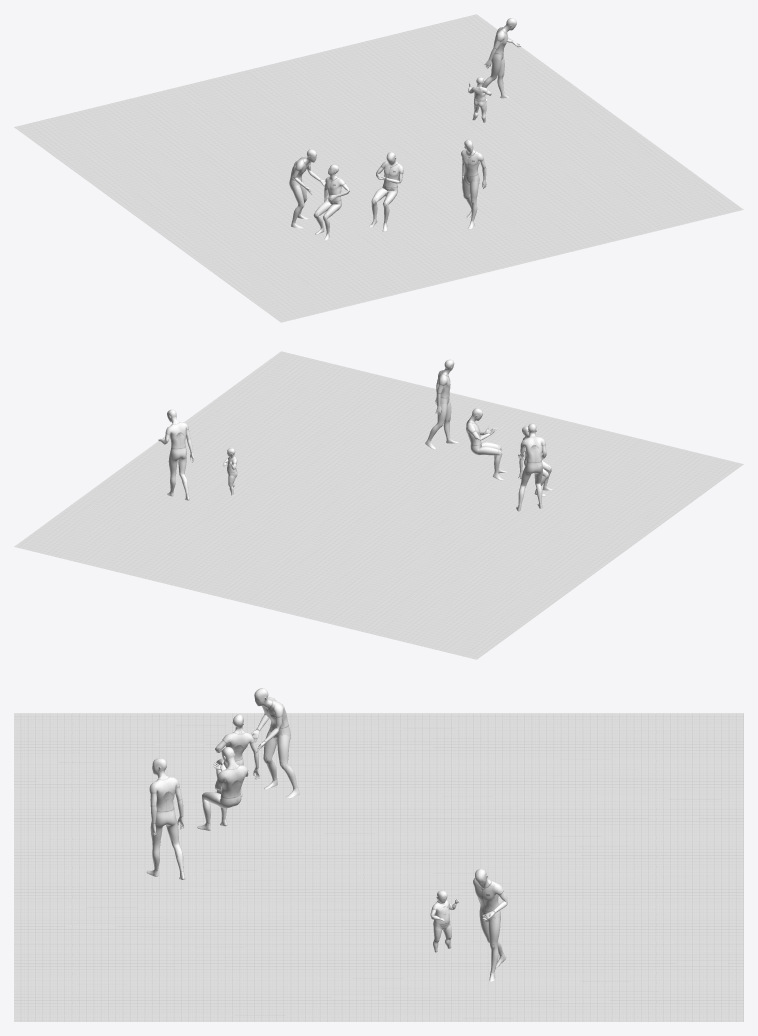
The picture shows the model from 3 angles, top to bottom: view 1: azimuth 30°, elevation 25°; view 2: azimuth 150°, elevation 25°; view 3: azimuth 270°, elevation 25°; orthographic projection. The views are drawn at different scales.
Visible parts, largest first — view 1: Ground_1, Male, Child; view 2: Ground_1, Male; view 3: Ground_1, Male, Child.
Part boxes in pixels (x1,y1,x2,y2): Ground_1: (14, 14, 743, 322); Male: (289, 18, 521, 240); Child: (468, 77, 491, 122); Ground_1: (14, 351, 743, 659); Male: (158, 359, 552, 511); Ground_1: (14, 713, 743, 1021); Male: (146, 688, 507, 981); Child: (430, 890, 459, 952).
Bounding box in the file's own units: 1950 × 350 × 1950.
